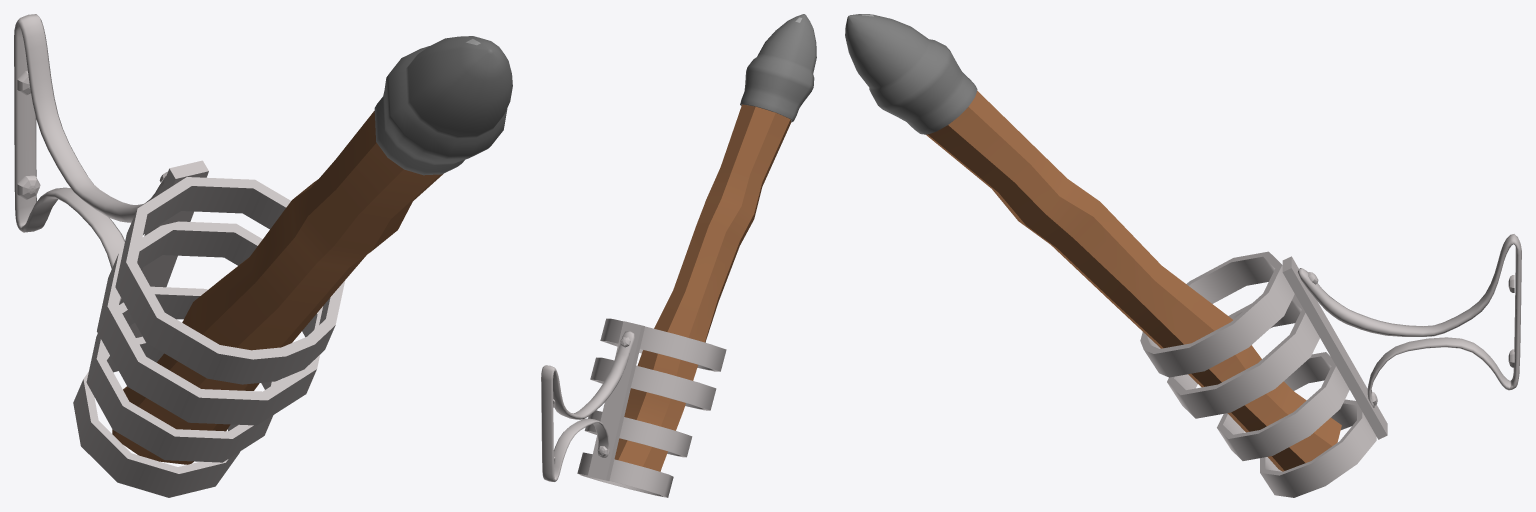
Rendered from Wooden_Torch.fbx.
3 views of the same model, side by side, from view 1: azimuth 30°, elevation 25°; view 2: azimuth 150°, elevation 25°; view 3: azimuth 270°, elevation 25° (orthographic). The views are drawn at different scales.
Parts seen in each view (by area): view 1: polySurface14, polySurface15, polySurface13; view 2: polySurface15, polySurface14, polySurface13; view 3: polySurface15, polySurface14, polySurface13.
Part boxes in pixels (box(x1,y1,x2,y2)): polySurface14: box(73, 160, 345, 497); polySurface15: box(112, 36, 512, 464); polySurface13: box(14, 14, 167, 304); polySurface15: box(614, 14, 816, 471); polySurface14: box(577, 318, 726, 497); polySurface13: box(541, 331, 634, 481); polySurface15: box(845, 14, 1341, 471); polySurface14: box(1140, 251, 1387, 497); polySurface13: box(1297, 234, 1521, 407).
Bounding box in the file's own units: 3.64 × 12.08 × 15.71.
